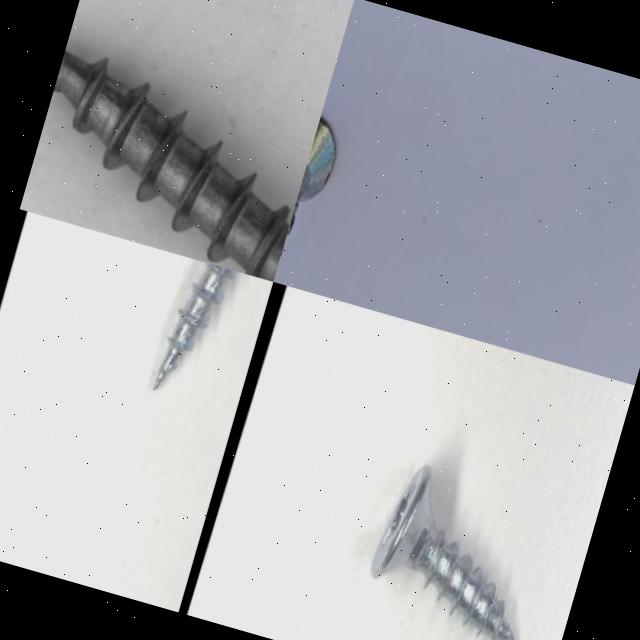Screw: (19, 0, 333, 281), (370, 467, 514, 640), (153, 262, 235, 391), (286, 119, 334, 236)
